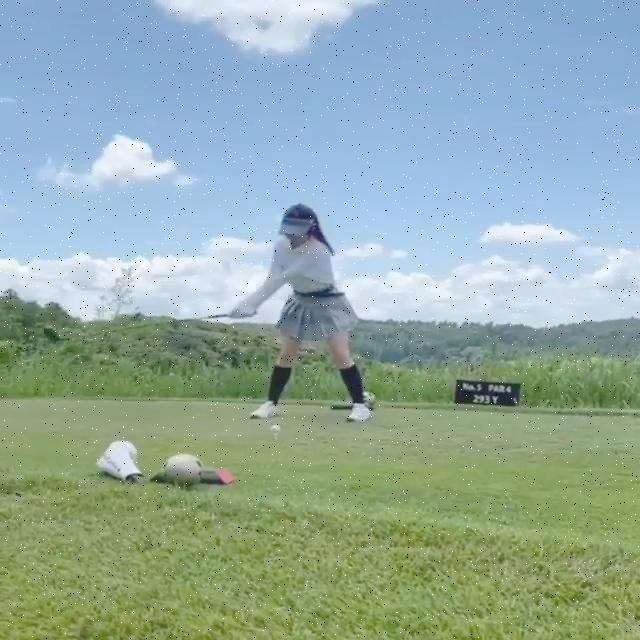ClubHead: (41, 322, 60, 342)
GolfBall: (270, 424, 280, 434)
